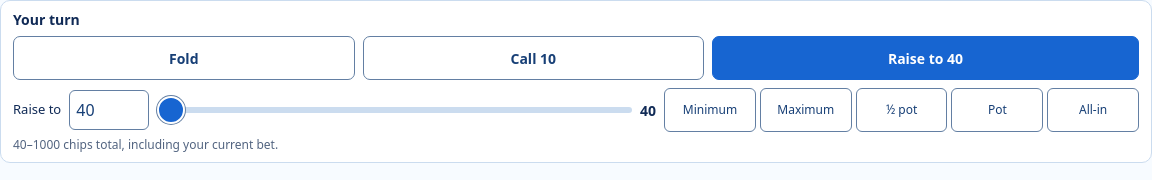
Test: PokerActionPanel › rejects invalid amount  with inline feedback
Clear the number field labelled "Raise to" at (109, 110), box [69,90,149,130]
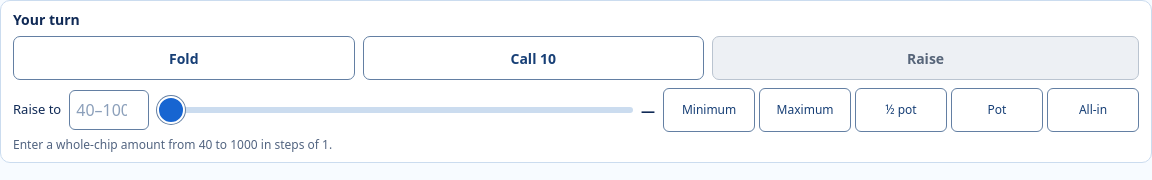
Expected: the button "Raise" is disabled, [712,36,1139,80]
Expected: the text "Enter a whole-chip amount from 40 to 1000 in steps of 1." is shown, [13,136,332,153]
